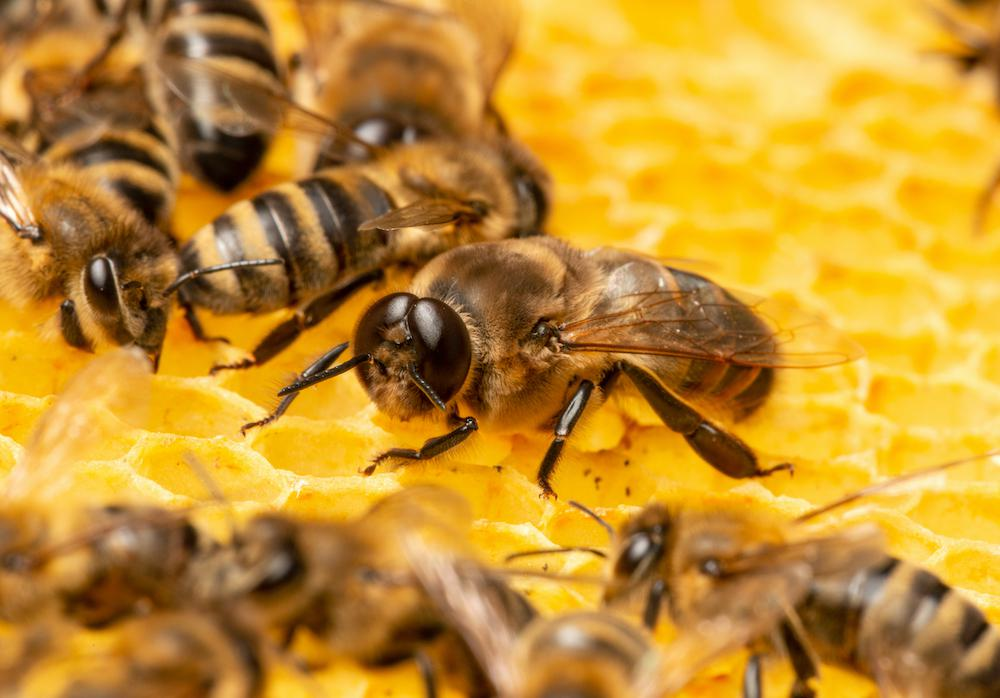bee: (617, 503, 1000, 698), (177, 147, 545, 309), (247, 517, 552, 681), (0, 96, 180, 355), (0, 503, 228, 615), (157, 0, 279, 190), (63, 619, 266, 698), (528, 612, 657, 698)
drone: (356, 235, 779, 418), (336, 0, 469, 164)
